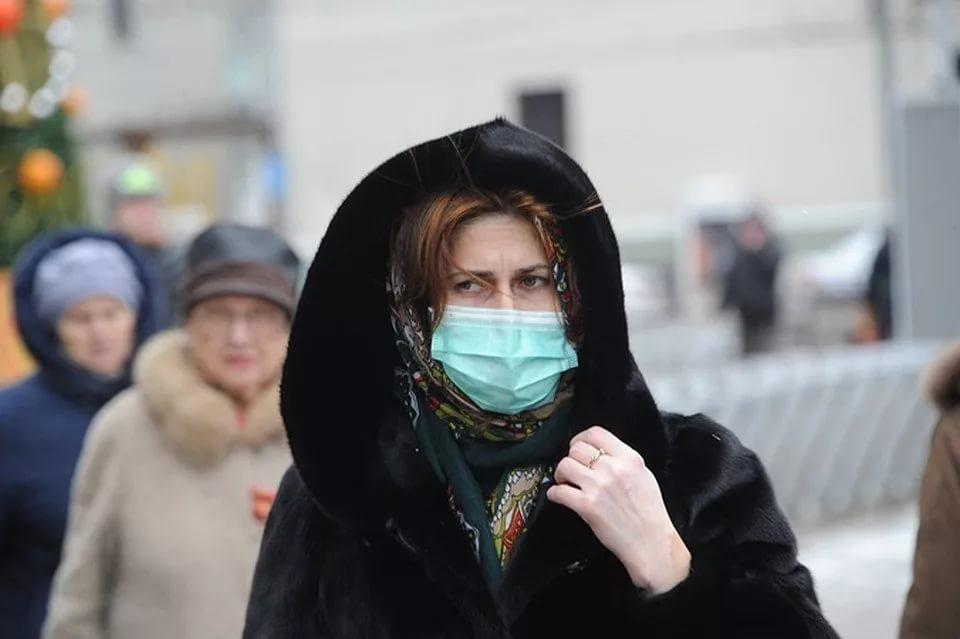mask: (434, 223, 568, 412)
none: (192, 288, 286, 393), (58, 288, 134, 370)
